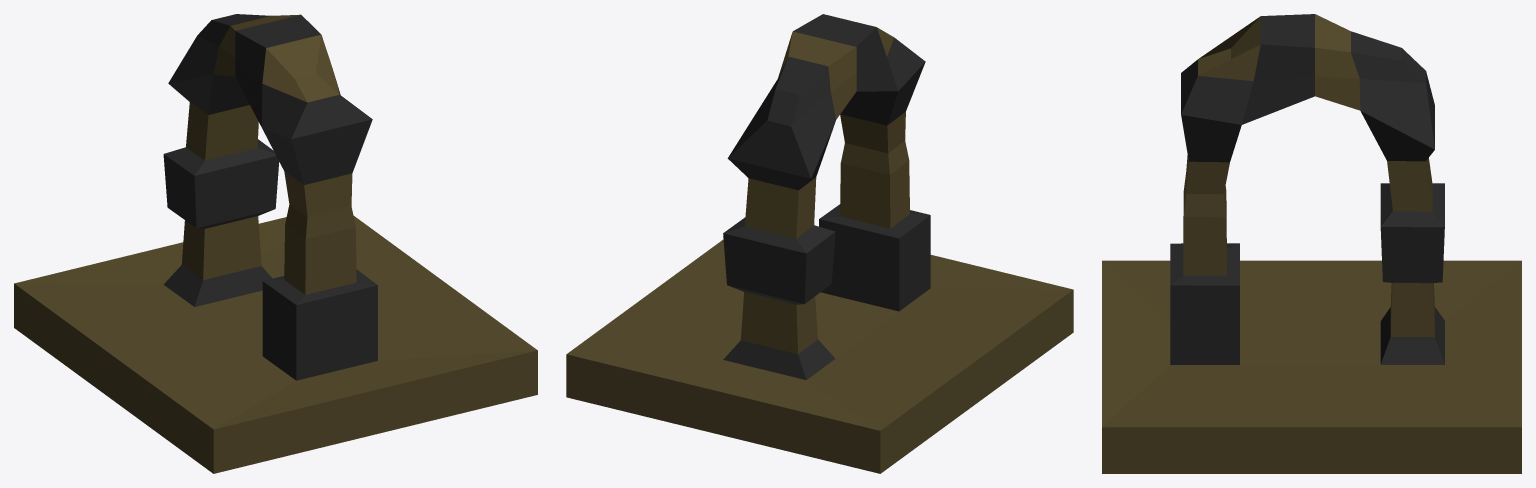
3 renders of one model, left to right at view 1: azimuth 30°, elevation 25°; view 2: azimuth 150°, elevation 25°; view 3: azimuth 270°, elevation 25°, orthographic. The views are drawn at different scales.
Parts seen in each view (by area): view 1: Cube; view 2: Cube; view 3: Cube.
Part boxes in pixels (x1=…): Cube: x1=14, y1=14, x2=537, y2=473; Cube: x1=566, y1=14, x2=1073, y2=473; Cube: x1=1102, y1=14, x2=1521, y2=473.
Size of the model in its own units: 151 by 151 by 161.
